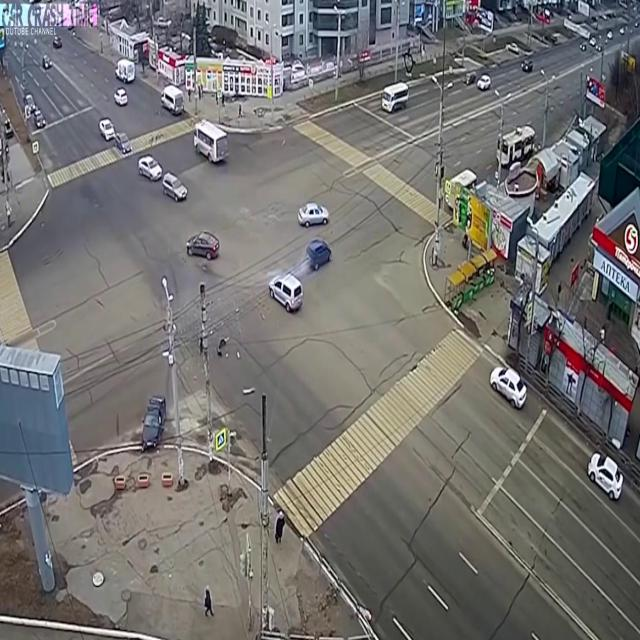accident: (264, 235, 336, 321), (134, 377, 172, 459)
non_accident: (138, 150, 190, 210), (97, 112, 135, 158)
